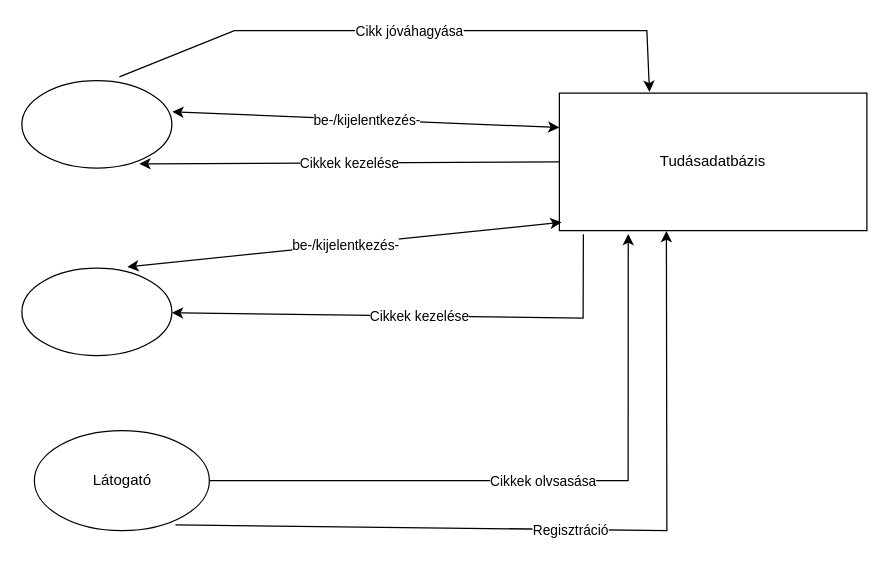
The diagram is 889 pixels wide and 563 high, and some of its shapes have lost their labels. Each missing label, with the box of its shape:
Admin: (21, 79, 172, 168)
Felhasználó: (21, 267, 172, 356)
